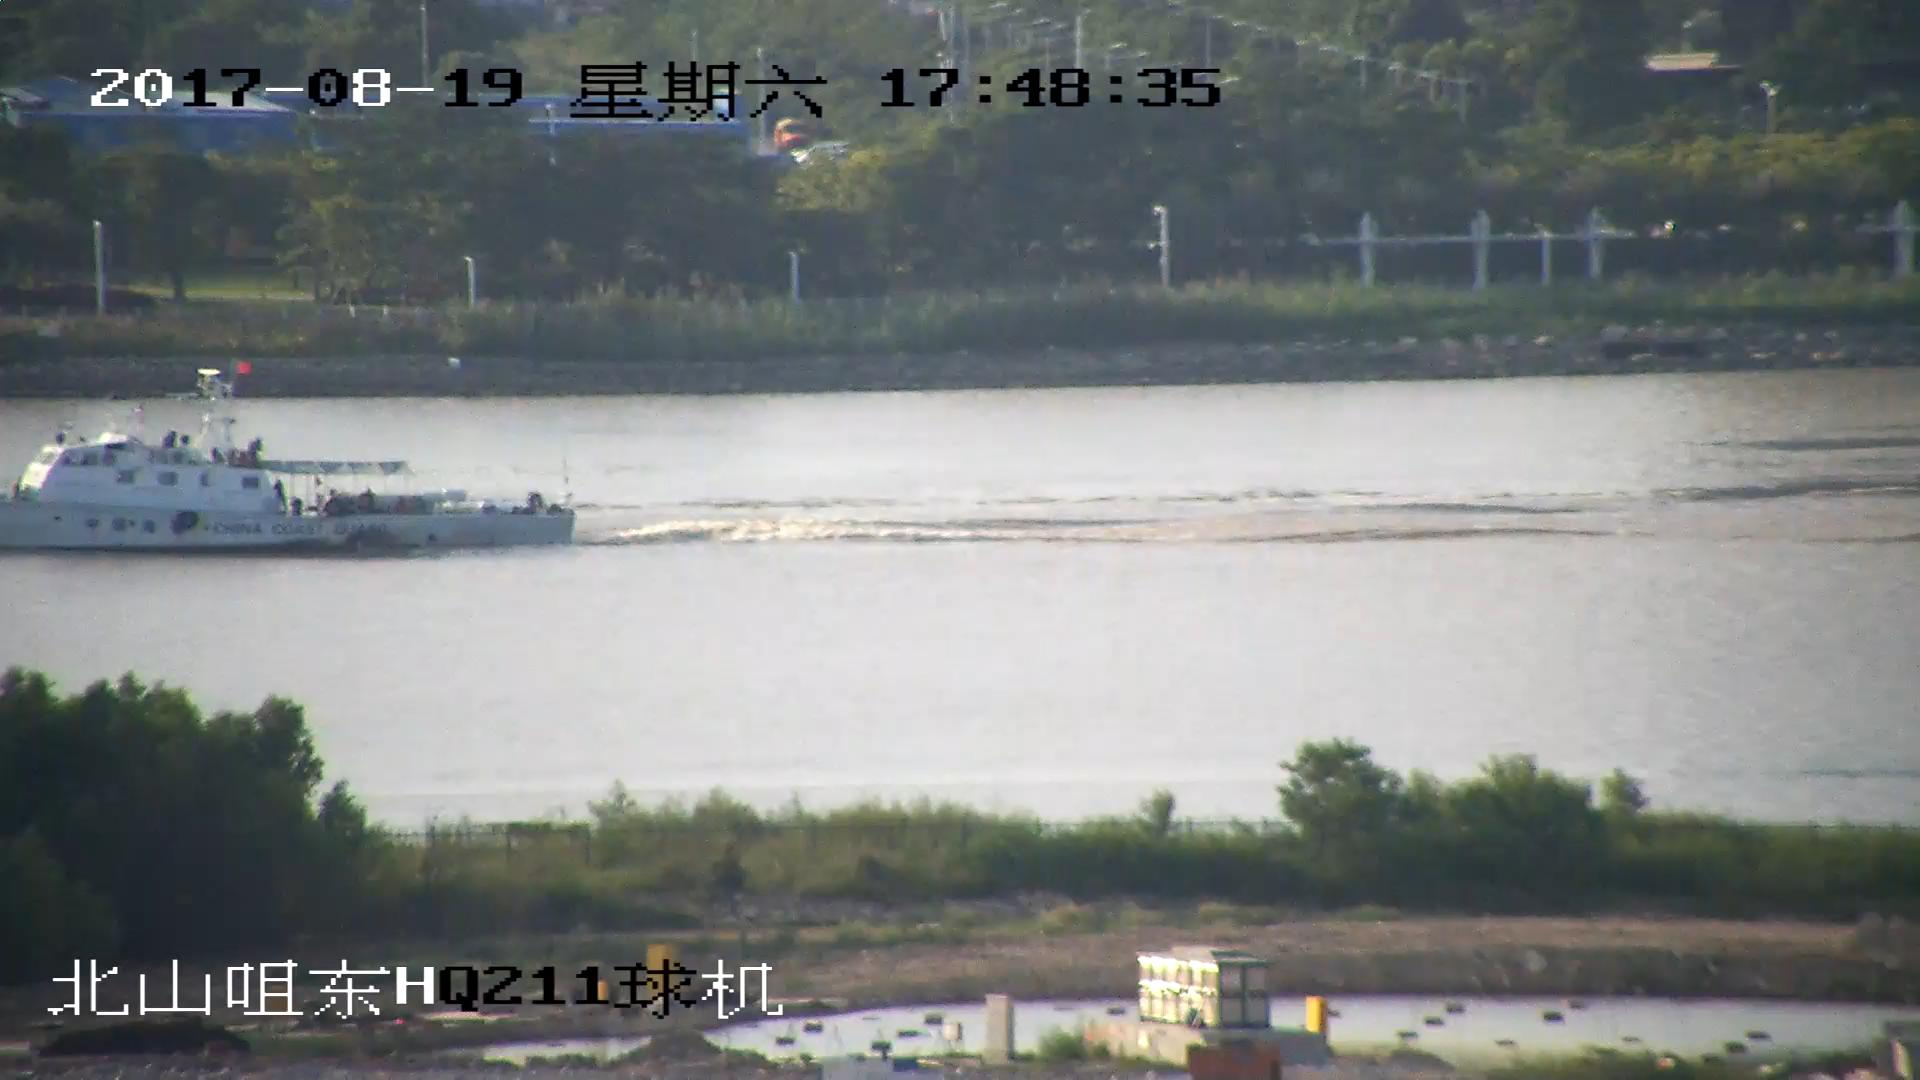passenger ship: (1, 359, 572, 556)
